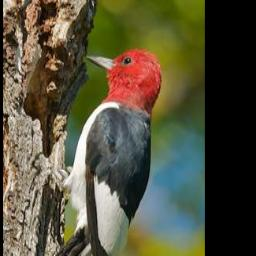Woodpecker: (40, 45, 161, 256)
